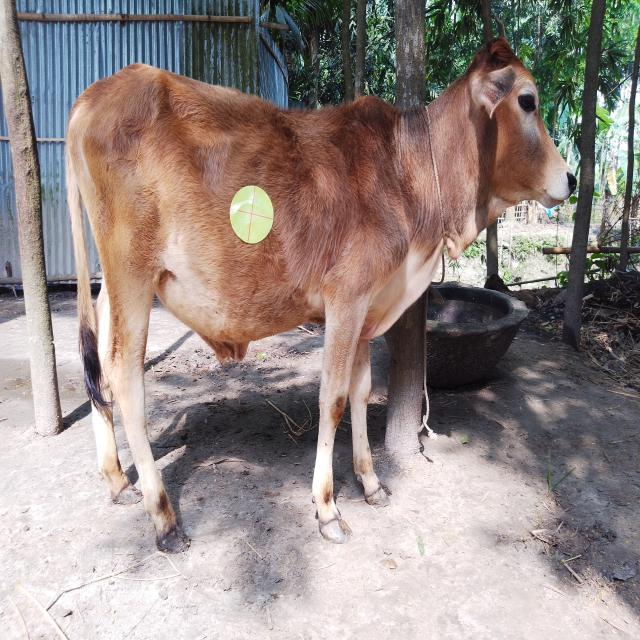badan_sapi: (72, 100, 403, 343)
sapi: (52, 23, 594, 570)
